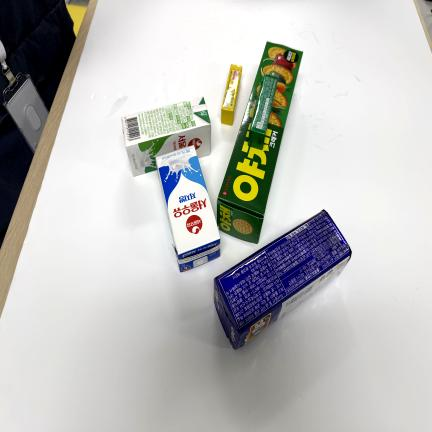cracker_ace: (212, 209, 352, 350)
cracker_vege: (216, 41, 303, 244)
gum_yellow: (221, 64, 244, 126)
milk_blue: (156, 143, 220, 274)
milk_green: (121, 97, 212, 179)
